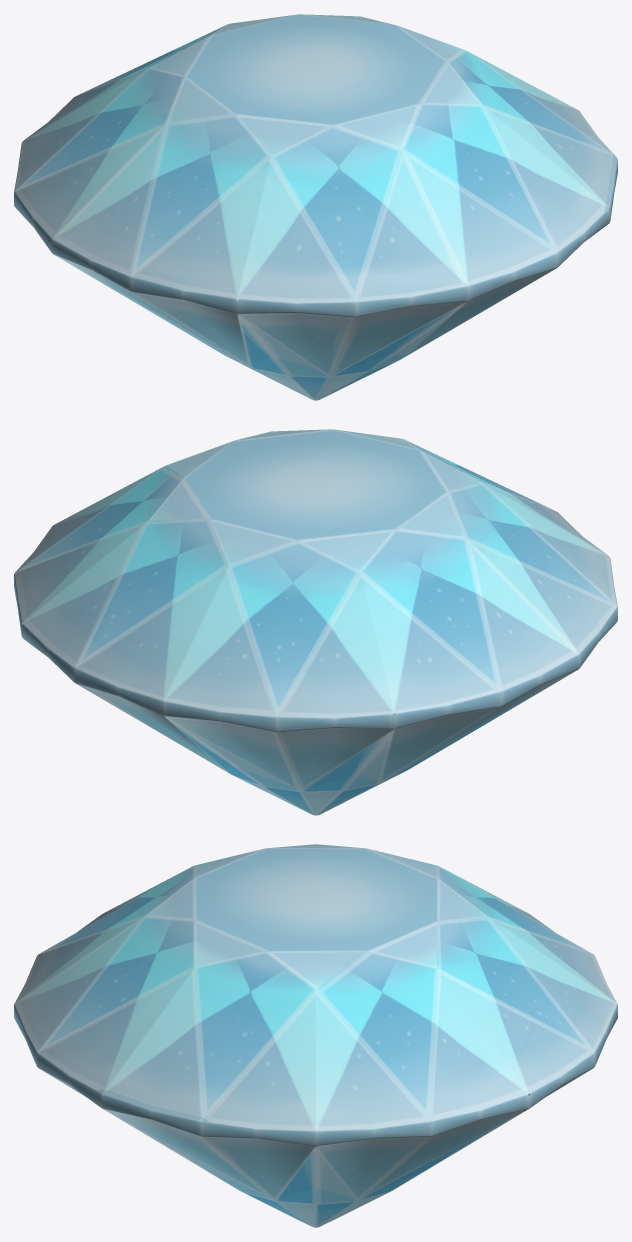
Rendered from Gem_Textured.FBX.
3 renders of one model, top to bottom at view 1: azimuth 30°, elevation 25°; view 2: azimuth 150°, elevation 25°; view 3: azimuth 270°, elevation 25°, orthographic.
Parts seen in each view (by area): view 1: Cylinder001; view 2: Cylinder001; view 3: Cylinder001.
Part boxes in pixels (x1,y1,x2,y2): Cylinder001: [14, 14, 617, 400]; Cylinder001: [14, 429, 617, 815]; Cylinder001: [14, 844, 617, 1227].
Size of the model in its own units: 31.84 by 18.96 by 31.84.
1 material, 1 textured.
